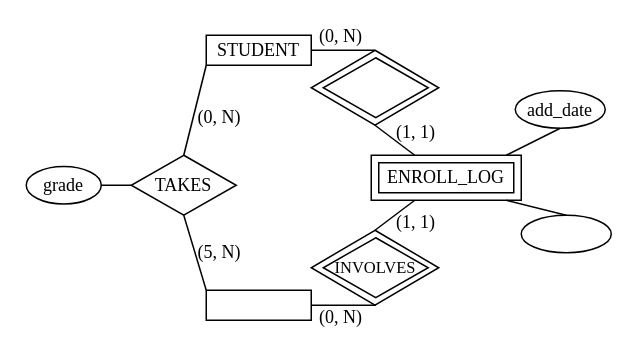
This 638x353 diagram has some shape labels left out. Each missing label, with the centre of its shape:
CREATES: the point at 375,87
drop _date: the point at 565,233
SECTION: the point at 258,304
